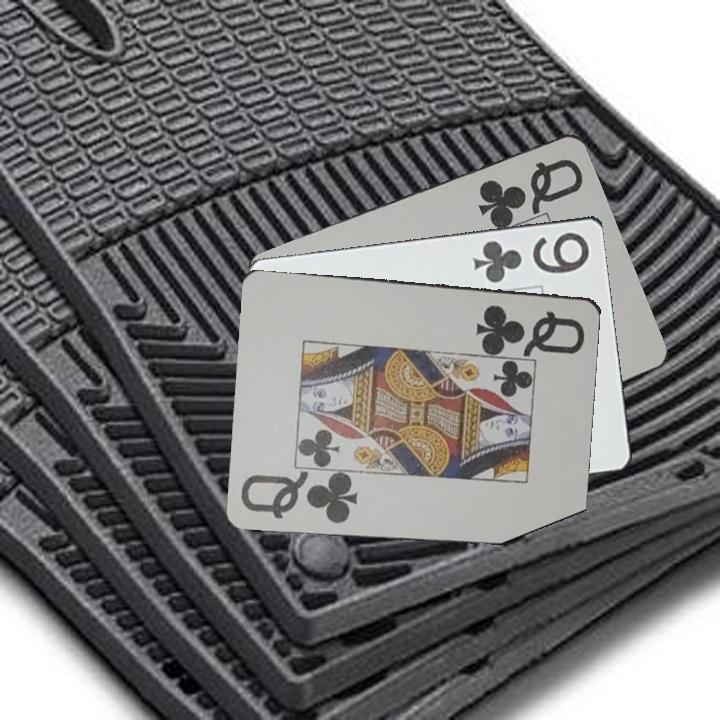9c: (469, 228, 593, 286)
Qc: (474, 154, 587, 226), (237, 469, 361, 526), (473, 300, 589, 355)
